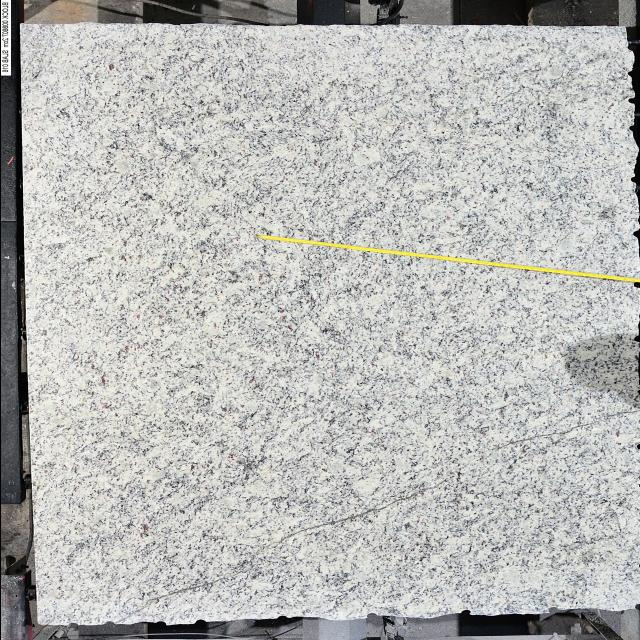chapa: (20, 24, 638, 624)
veio: (151, 620, 169, 628), (190, 618, 208, 626), (458, 608, 474, 617), (546, 606, 562, 614), (364, 612, 379, 620), (626, 96, 638, 106), (630, 228, 640, 239), (630, 333, 640, 343), (628, 124, 638, 134), (632, 280, 640, 290), (628, 176, 638, 184)
